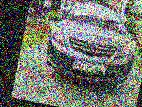car: (37, 0, 142, 98)
